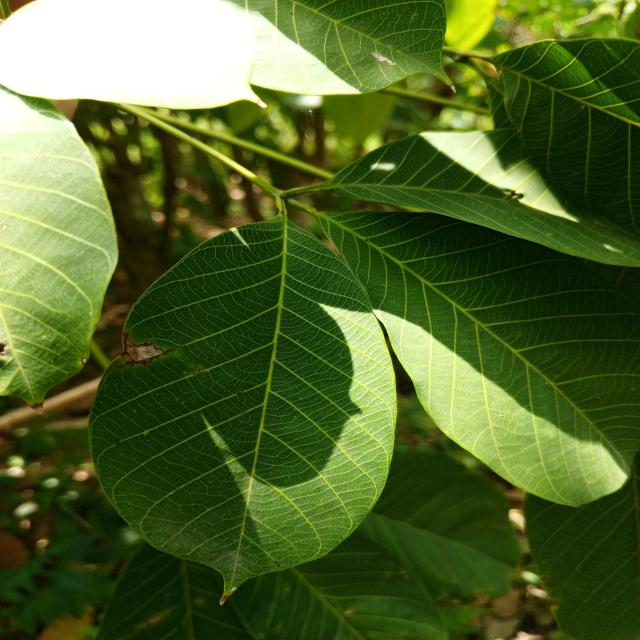Colletotrichum: (193, 367, 200, 374), (82, 357, 88, 365), (237, 389, 243, 394)
Corynespora: (117, 331, 183, 369)
Leaf-Blight: (127, 345, 163, 362), (30, 402, 44, 414), (220, 595, 230, 605), (450, 85, 456, 93)
